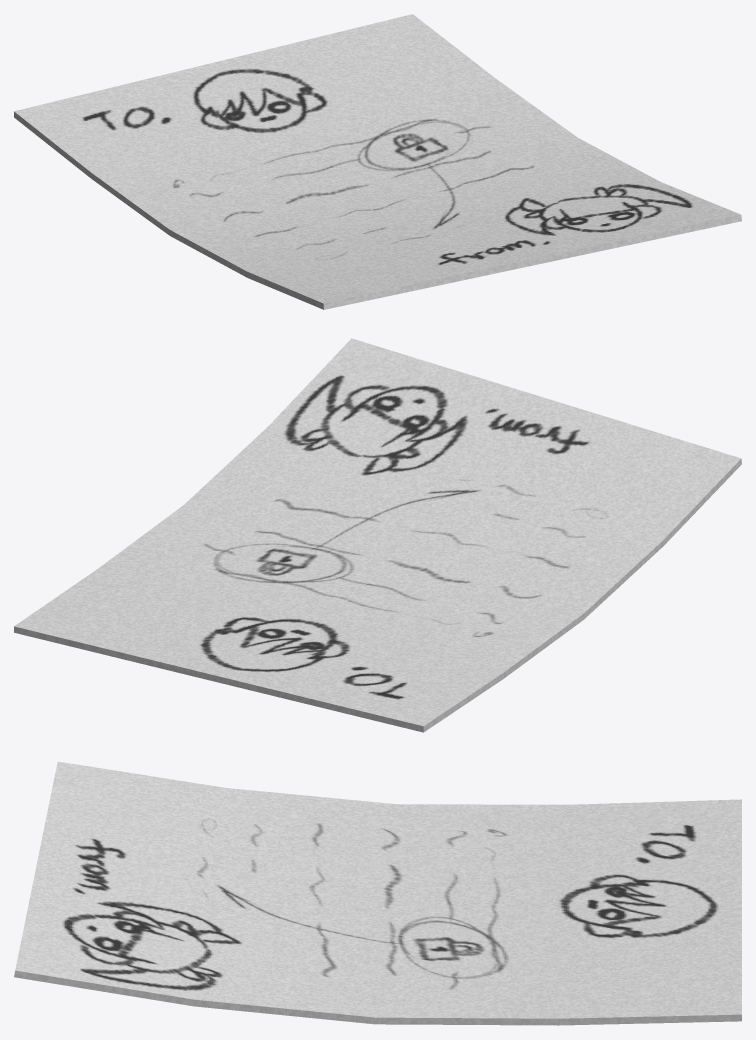
The model's file is SM_Clue_Note.fbx.
3 views of the same model, one above another, from view 1: azimuth 30°, elevation 25°; view 2: azimuth 150°, elevation 25°; view 3: azimuth 270°, elevation 25° (orthographic). The views are drawn at different scales.
Visible parts, largest first — view 1: SM_Clue_Note; view 2: SM_Clue_Note; view 3: SM_Clue_Note.
Part boxes in pixels (<box>): SM_Clue_Note: <box>14,14,741,309</box>; SM_Clue_Note: <box>14,338,741,732</box>; SM_Clue_Note: <box>14,761,741,1025</box>.
Size of the model in its own units: 8.95 by 1.09 by 12.8.
Materials: 1 (1 with a texture image).
